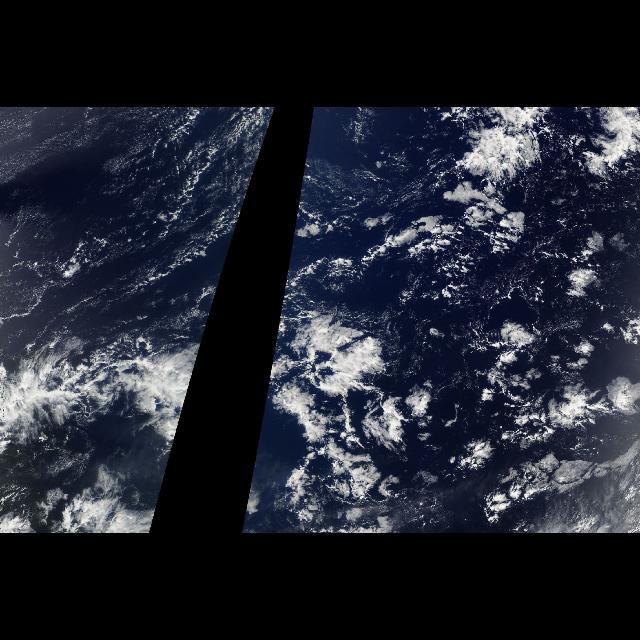Fish: (2, 326, 196, 448)
Flower: (318, 186, 636, 530)
Sugar: (1, 107, 215, 329)
